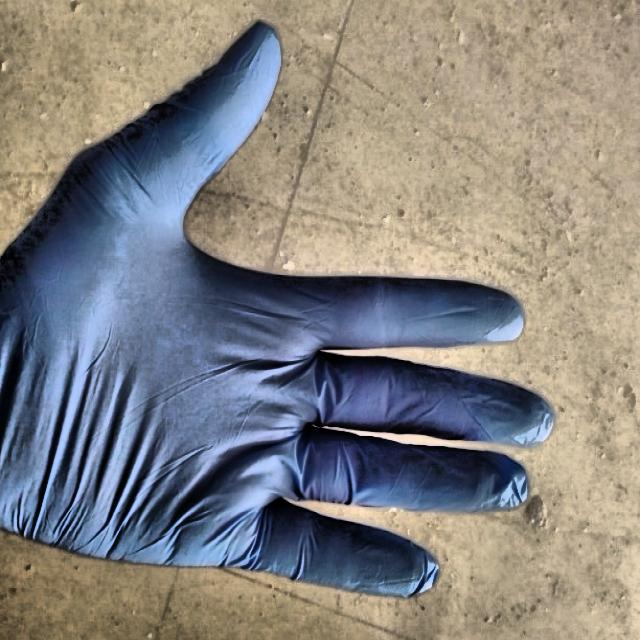gloved: (0, 19, 554, 598)
